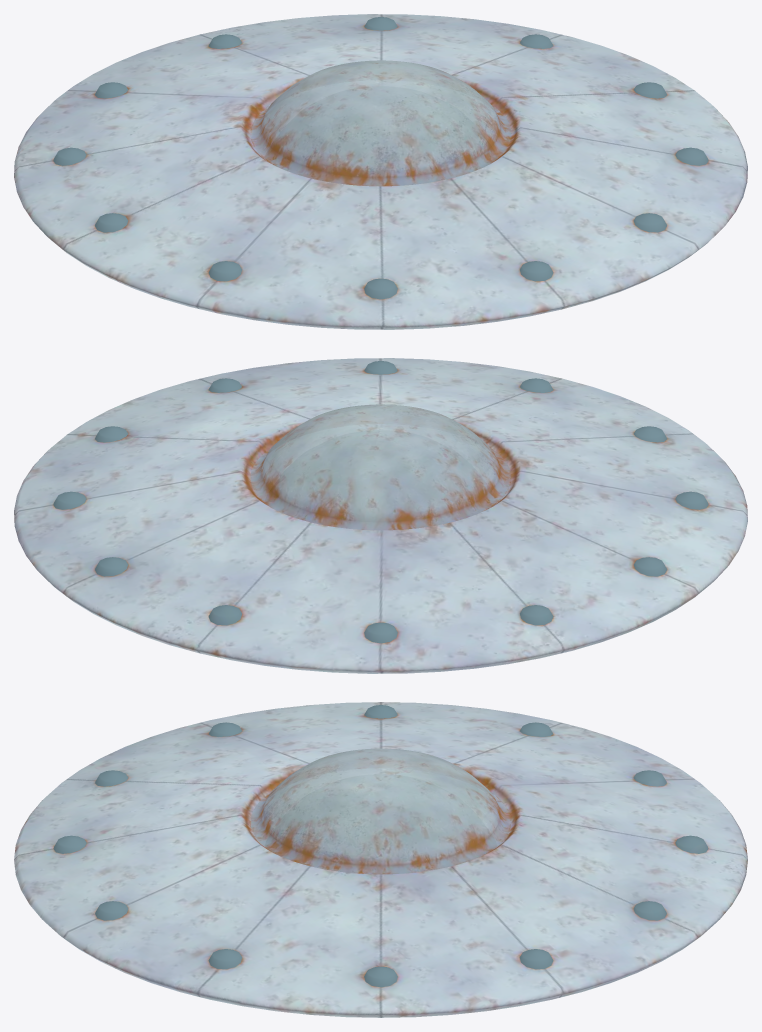
File: ufo_c.glb
3 views of the same model, one above another, from view 1: azimuth 30°, elevation 25°; view 2: azimuth 150°, elevation 25°; view 3: azimuth 270°, elevation 25° (orthographic).
Parts seen in each view (by area): view 1: defaultMaterial; view 2: defaultMaterial; view 3: defaultMaterial.
Boxes of the visible parts, bbox=[...] form: defaultMaterial: bbox=[14, 14, 747, 329]; defaultMaterial: bbox=[14, 358, 747, 673]; defaultMaterial: bbox=[14, 702, 747, 1017].
Bounding box in the file's own units: 200 × 48.97 × 200.
1 material, 1 textured.
